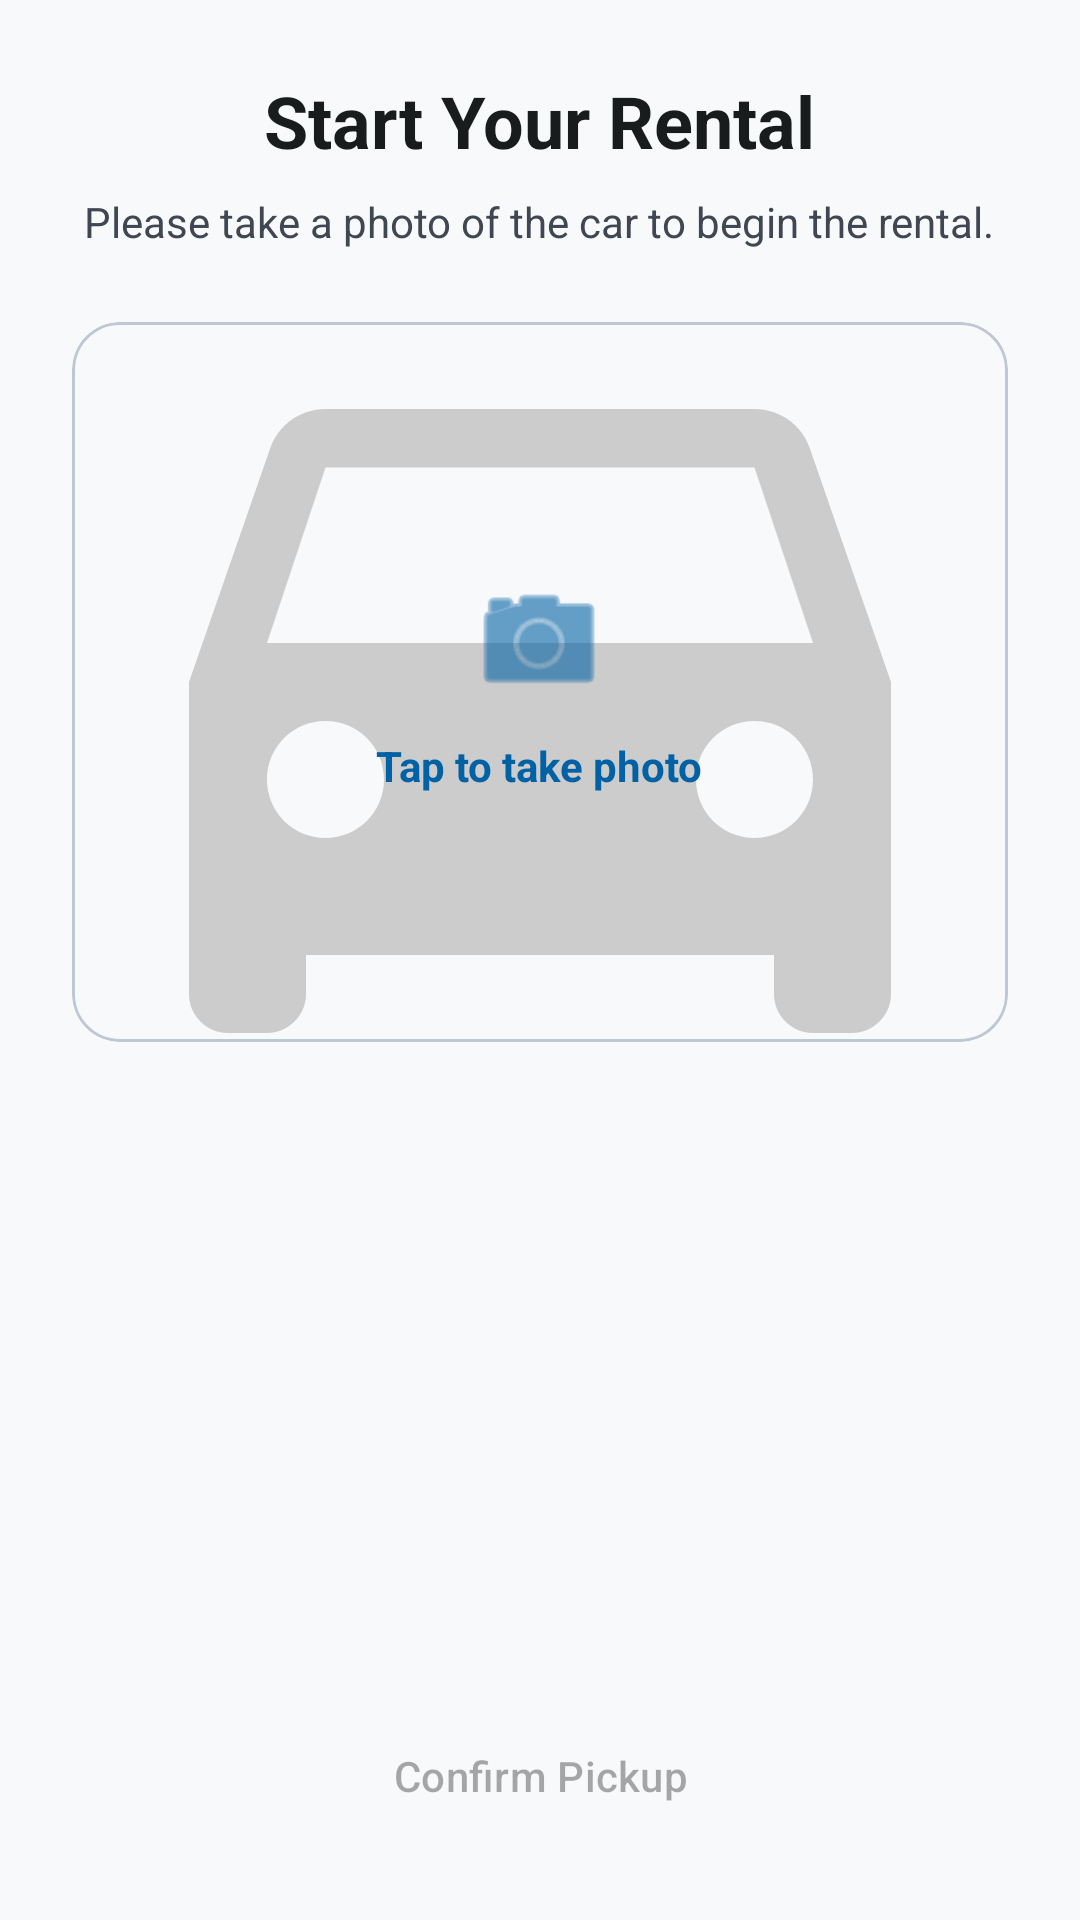

Icons on this 1080*1920 Android screen, each with the point to tap as (x=x, y=y):
camera: (x=539, y=641)
